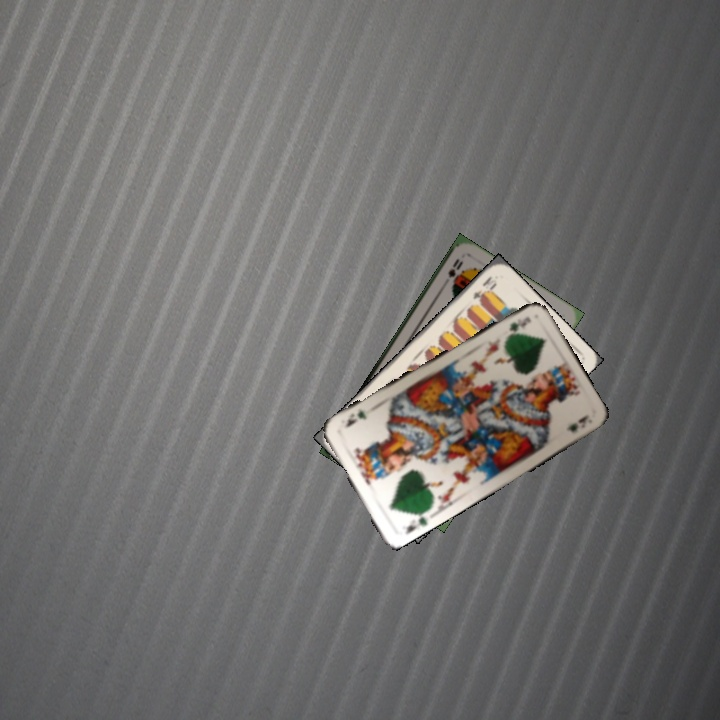E10: (469, 271, 499, 304)
GK: (500, 312, 534, 341), (401, 507, 430, 537)
SO: (444, 255, 466, 285)
